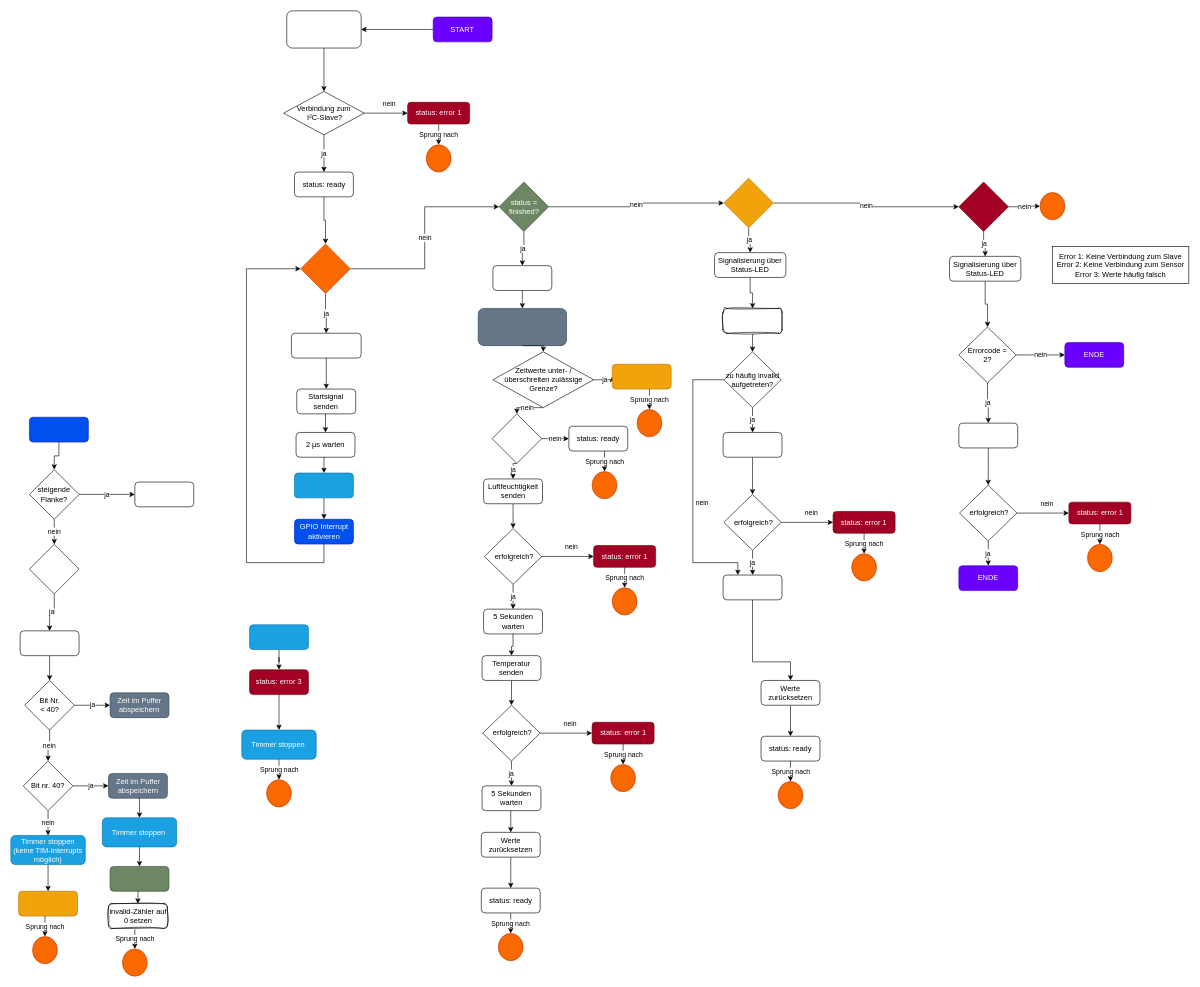
Some shapes in this 1200 by 987 pixel diagram are drawn without their labels. The shapes that lost their labels are listed below. From the top down, each one's centre as x and y in pixels, then its label:
At point 323,29: "StartUp und Initiallisierung".
At point 748,203: "status = invalid?".
At point 983,206: "status = error?".
At point 325,268: "status = ready?".
At point 522,277: "status: processing".
At point 522,327: "abgespeicherte Zeitwerte aus Puffer in 1 oder 0 umrechnen".
At point 752,320: "invalid-Zähler um 1 erhöhen".
At point 326,345: "status: measuring".
At point 641,376: "status: invalid".
At point 58,429: "GPIO ISR".
At point 516,438: "Parität validierbar?".
At point 752,444: "Senden des Fehlercodes 3".
At point 988,435: "Senden des Fehlercodes 2".
At point 164,494: "Timer auf 0 setzen".
At point 323,485: "Timer starten".
At point 54,569: "fallende Flanke?".
At point 752,587: "2 Sekunden warten".
At point 49,643: "Timer lesen".
At point 278,637: "Timer ISR".
At point 139,878: "status: finished".
At point 48,903: "status: invalide".
